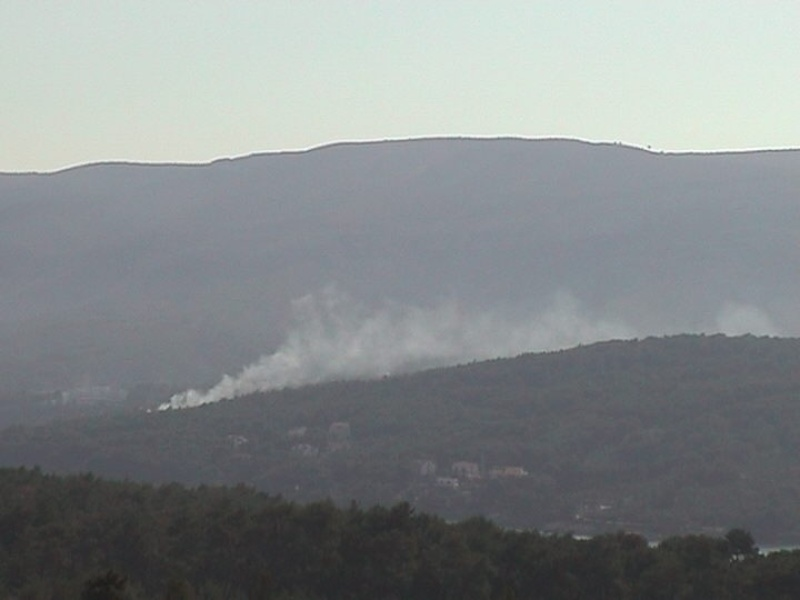smoke: (244, 287, 537, 365)
